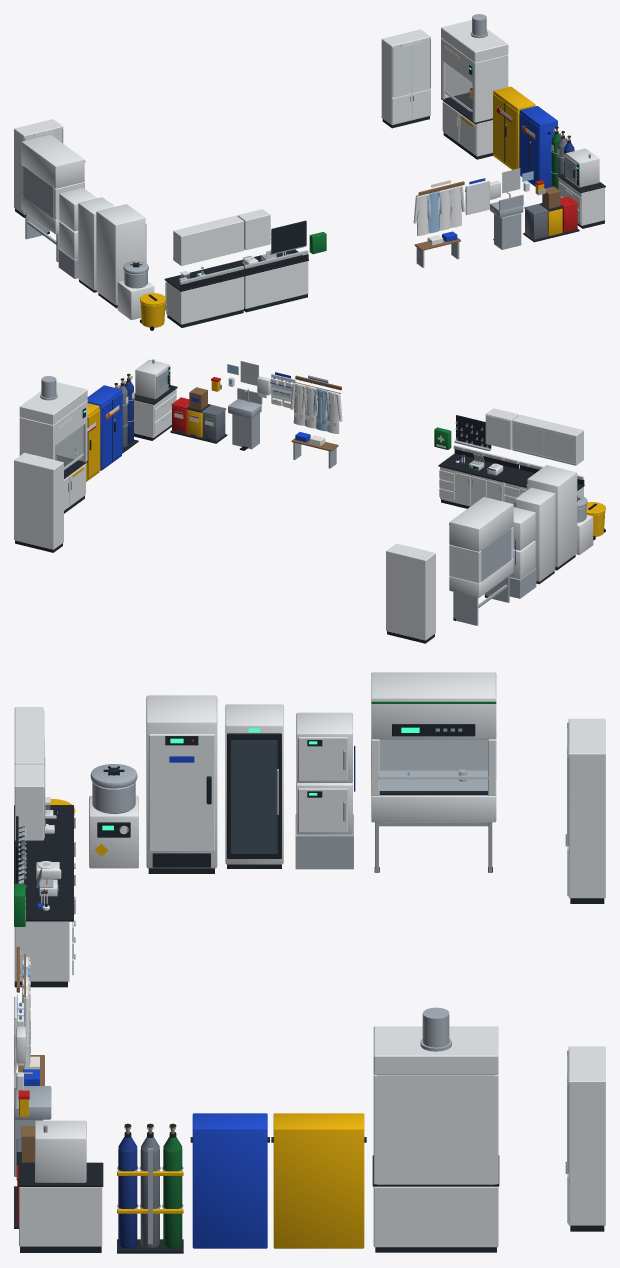
File: lab_props.glb
The picture shows the model from 3 angles, top to bottom: view 1: azimuth 30°, elevation 25°; view 2: azimuth 150°, elevation 25°; view 3: azimuth 270°, elevation 25°; orthographic projection. The views are drawn at different scales.
Visible parts, largest first — view 1: zona_pared_este, zona_pared_oeste, zona_sur_instrumental, zona_sur_epp_higiene, zona_norte_vitrinas; view 2: zona_pared_oeste, zona_pared_este, zona_sur_instrumental, zona_norte_vitrinas, zona_sur_epp_higiene; view 3: zona_pared_este, zona_pared_oeste, zona_norte_vitrinas, zona_sur_instrumental, zona_sur_epp_higiene.
Part boxes in pixels (box(x1,y1,x2,y2)): zona_pared_este: box(441, 14, 605, 228); zona_pared_oeste: box(21, 134, 167, 330); zona_sur_instrumental: box(164, 209, 326, 327); zona_sur_epp_higiene: box(413, 168, 579, 267); zona_norte_vitrinas: box(14, 29, 430, 217); zona_pared_oeste: box(449, 465, 605, 625); zona_pared_este: box(19, 359, 177, 513); zona_sur_instrumental: box(434, 408, 584, 508); zona_norte_vitrinas: box(14, 452, 435, 643); zona_sur_epp_higiene: box(170, 361, 342, 468); zona_pared_este: box(18, 1007, 499, 1253); zona_pared_oeste: box(45, 672, 496, 873); zona_norte_vitrinas: box(565, 718, 605, 1231); zona_sur_instrumental: box(14, 707, 75, 987); zona_sur_epp_higiene: box(14, 946, 51, 1228).
Bounding box in the file's own units: 19.83 × 5.23 × 12.22.
